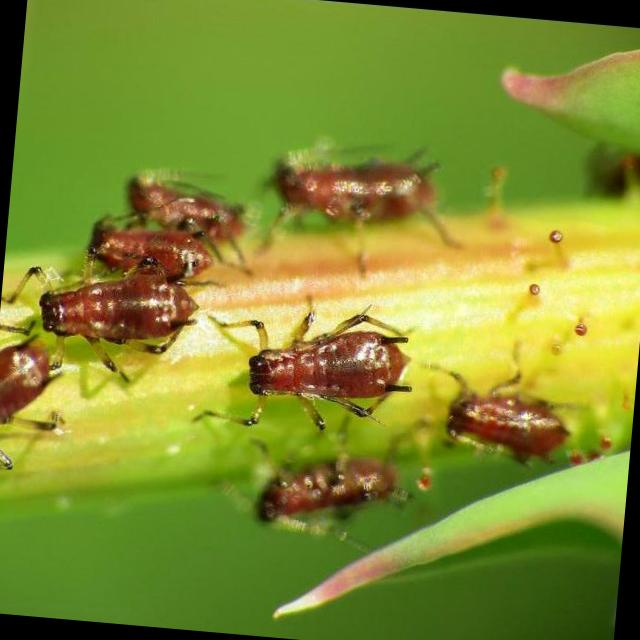aphid: (184, 266, 434, 460), (0, 236, 200, 365), (425, 361, 586, 478)
